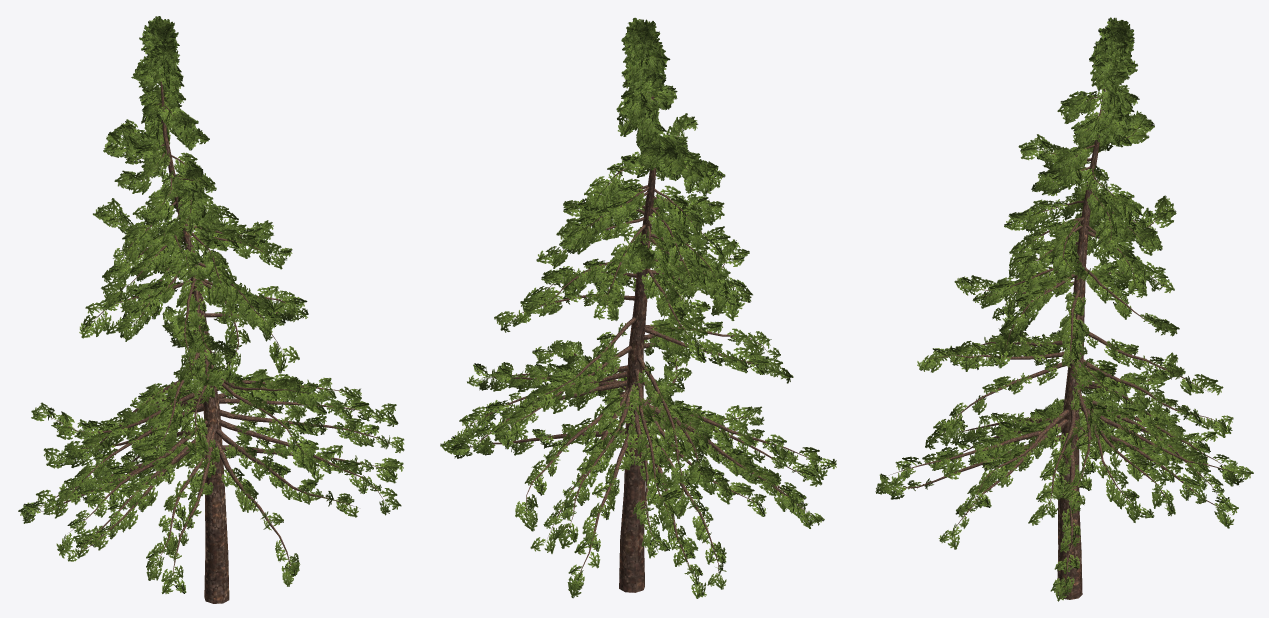
File: pine.glb
The picture shows the model from 3 angles, left to right: view 1: azimuth 30°, elevation 25°; view 2: azimuth 150°, elevation 25°; view 3: azimuth 270°, elevation 25°; orthographic projection. The views are drawn at different scales.
Parts seen in each view (by area): view 1: pine; view 2: pine; view 3: pine.
Boxes of the visible parts, box(x1,y1,x2,y2) form: pine: box(18, 16, 404, 603); pine: box(440, 17, 836, 598); pine: box(875, 17, 1253, 601).
Bounding box in the file's own units: 7.24 × 11 × 6.81.
Materials: 2 (2 with a texture image).
